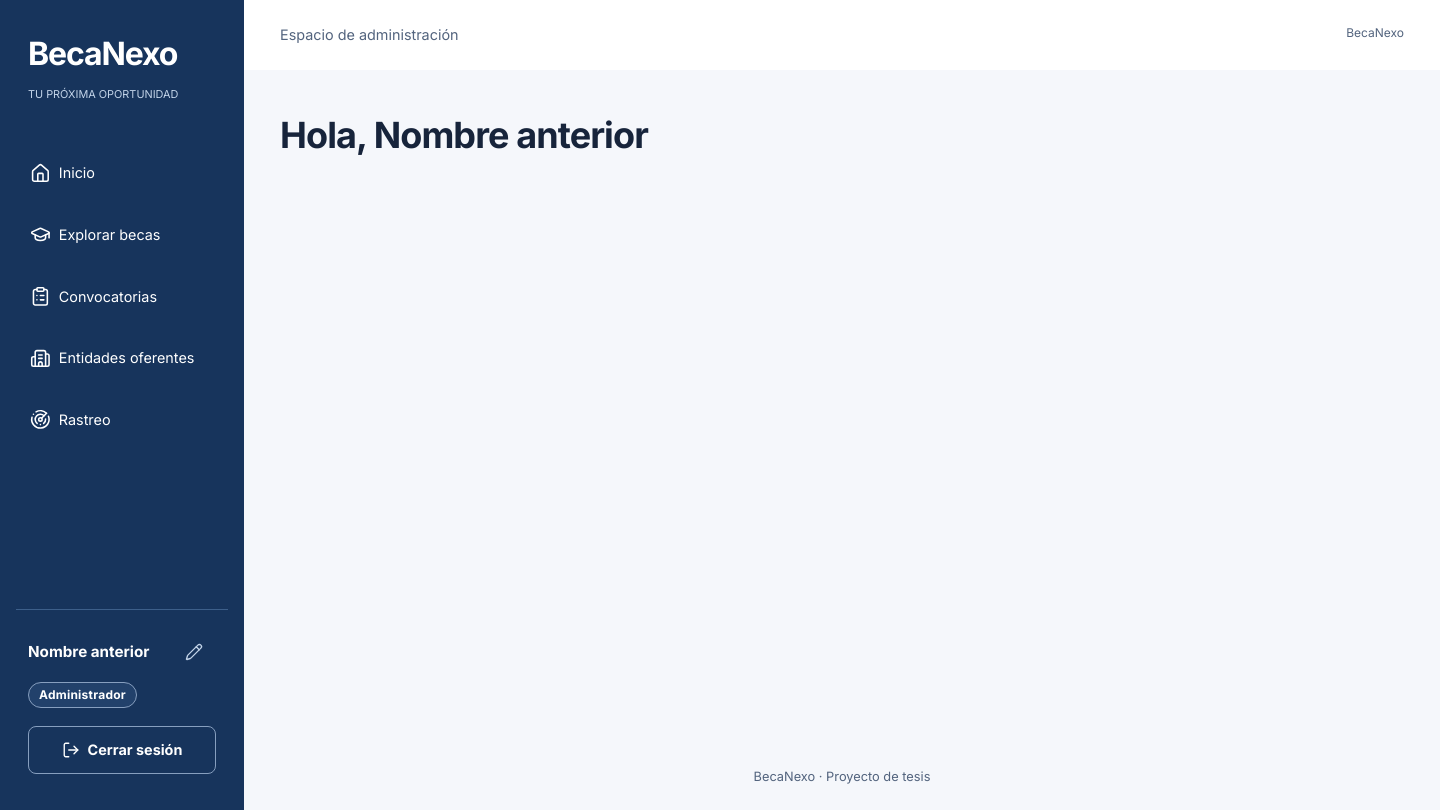
it: actualiza contexto y navegación de administrador sin recargar
Click the button named "Editar nombre": [194, 652] box left=172, top=630, right=216, bottom=674
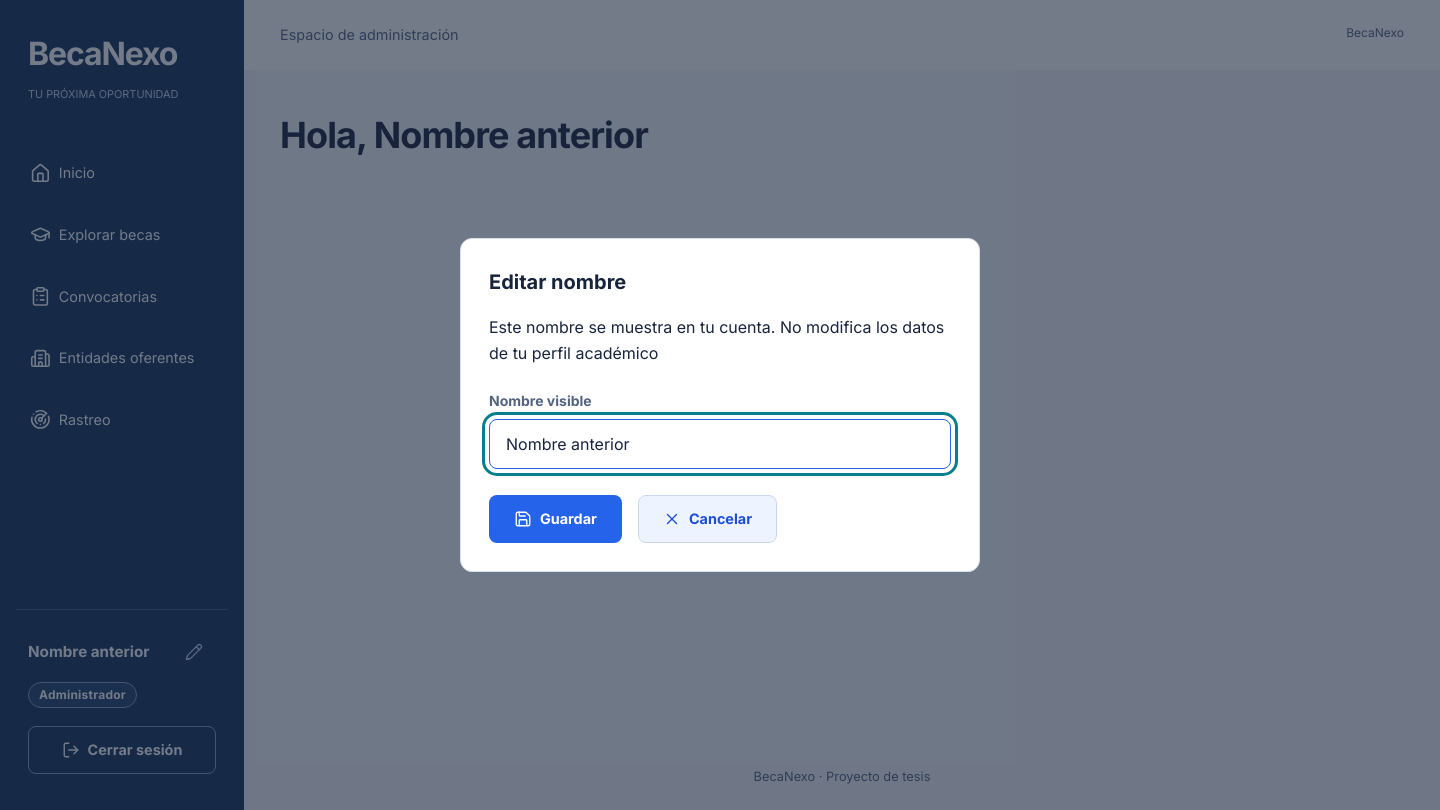
Expected: the field labelled "Nombre visible" holds "Nombre anterior"
Replace the text in the field labelled "Nombre visible" with "María <b>José</b>": [720, 444] box left=489, top=419, right=951, bottom=469
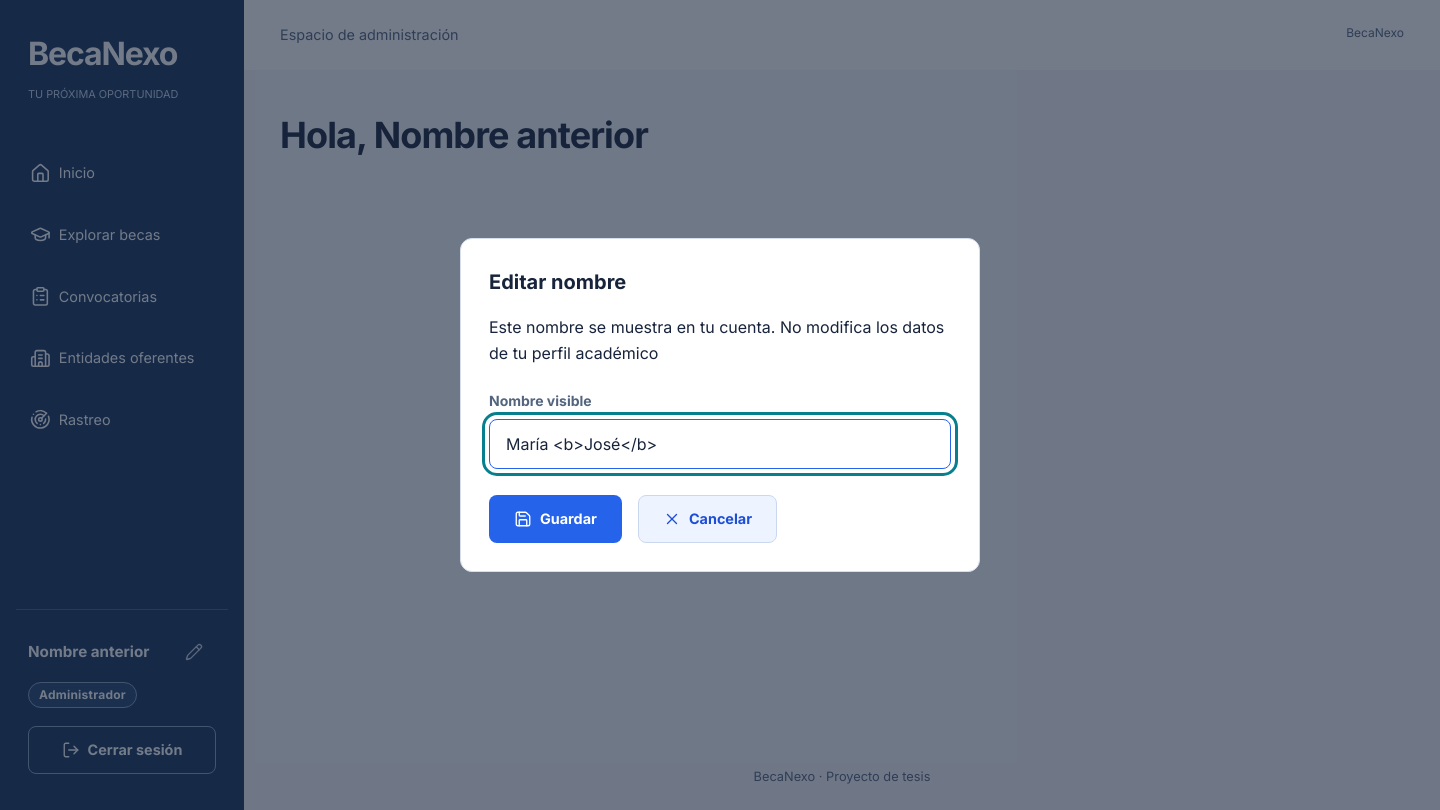
Click the button "Guardar": [555, 519] box left=489, top=495, right=622, bottom=543
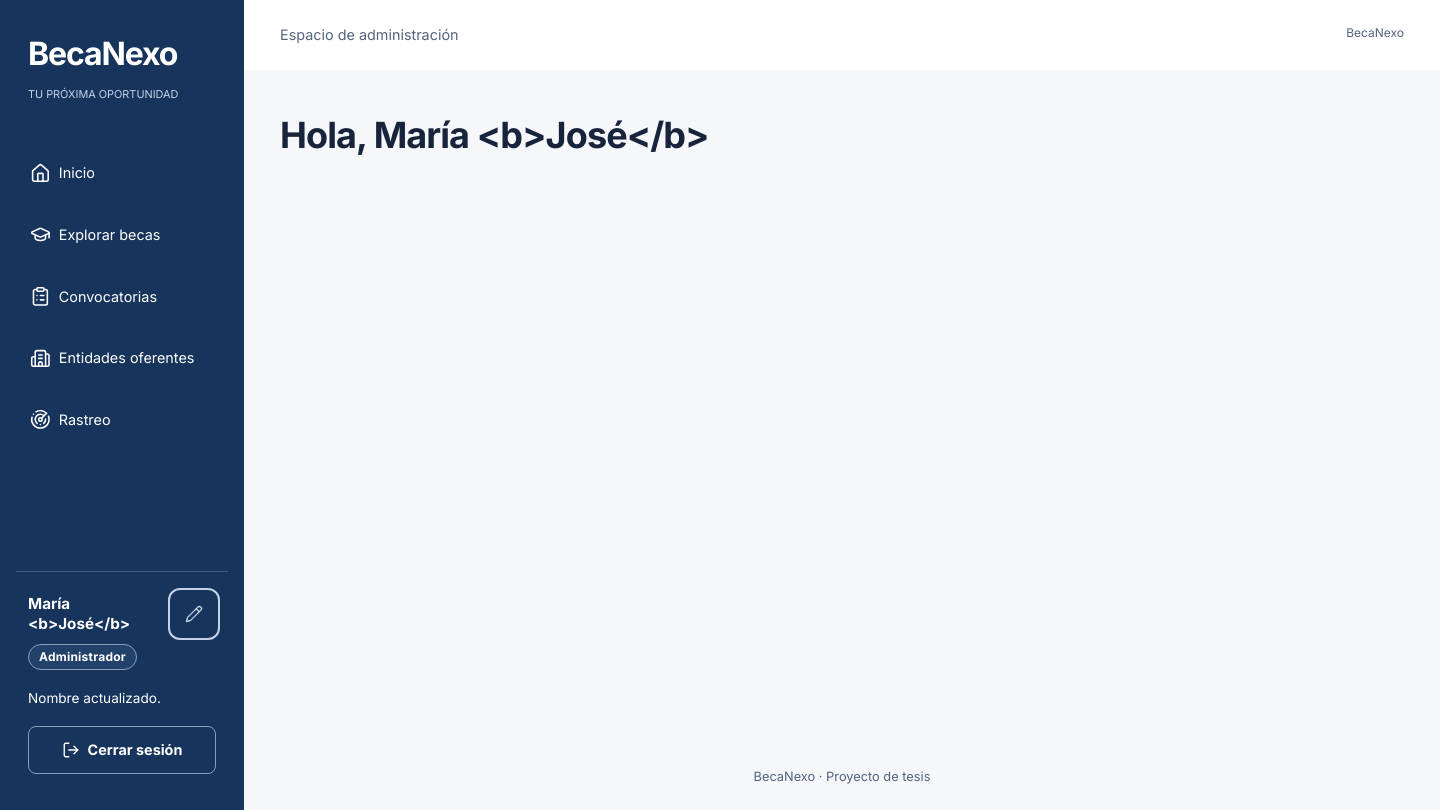
Expected: the heading "Hola, María <b>José</b>" is shown, left=280, top=113, right=709, bottom=157
Expected: the text "María <b>José</b>" is shown, left=28, top=594, right=130, bottom=633
Expected: the text "Nombre actualizado." is shown, left=28, top=690, right=161, bottom=706
